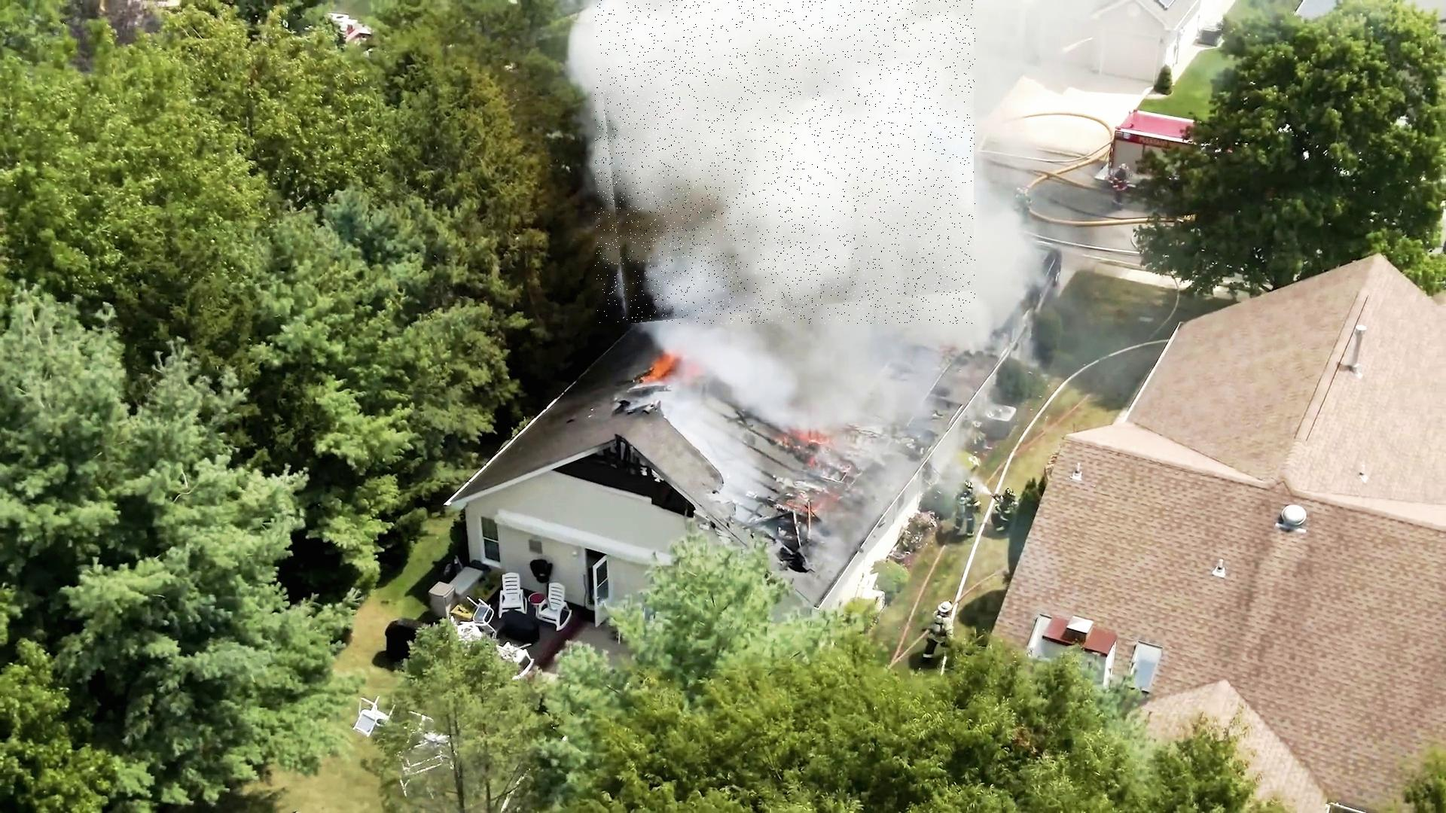smoke: (596, 0, 976, 324)
